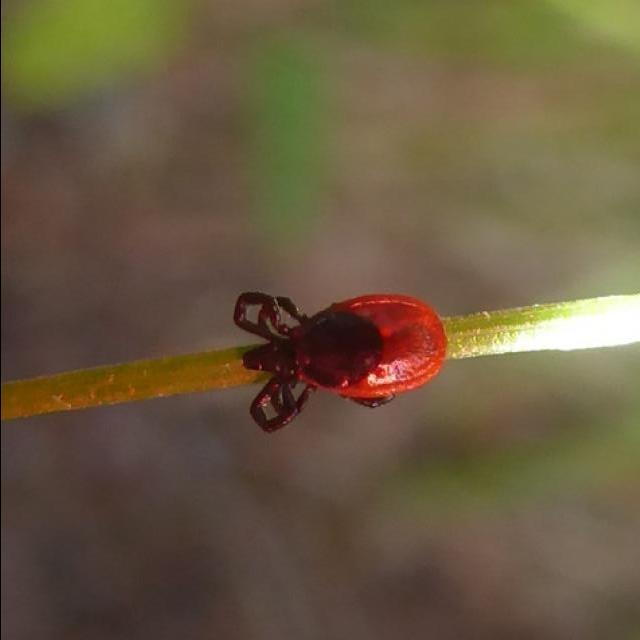Ixodes Ricinus-F: (230, 289, 445, 434)
